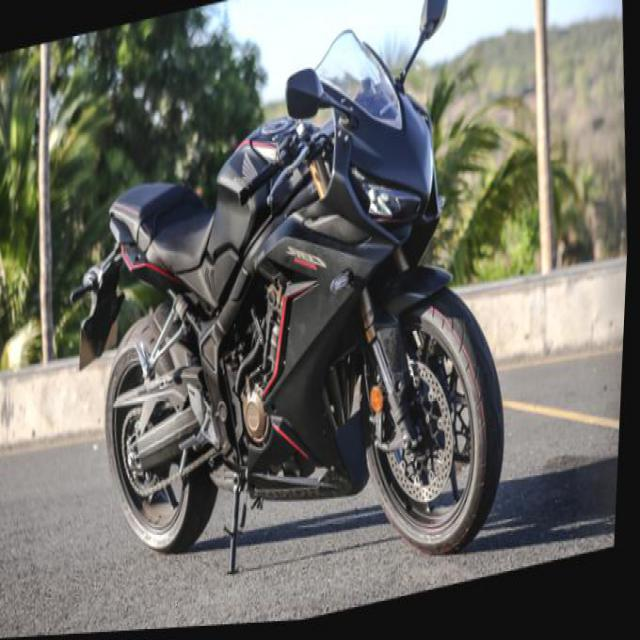CBR650R: (52, 0, 533, 636)
